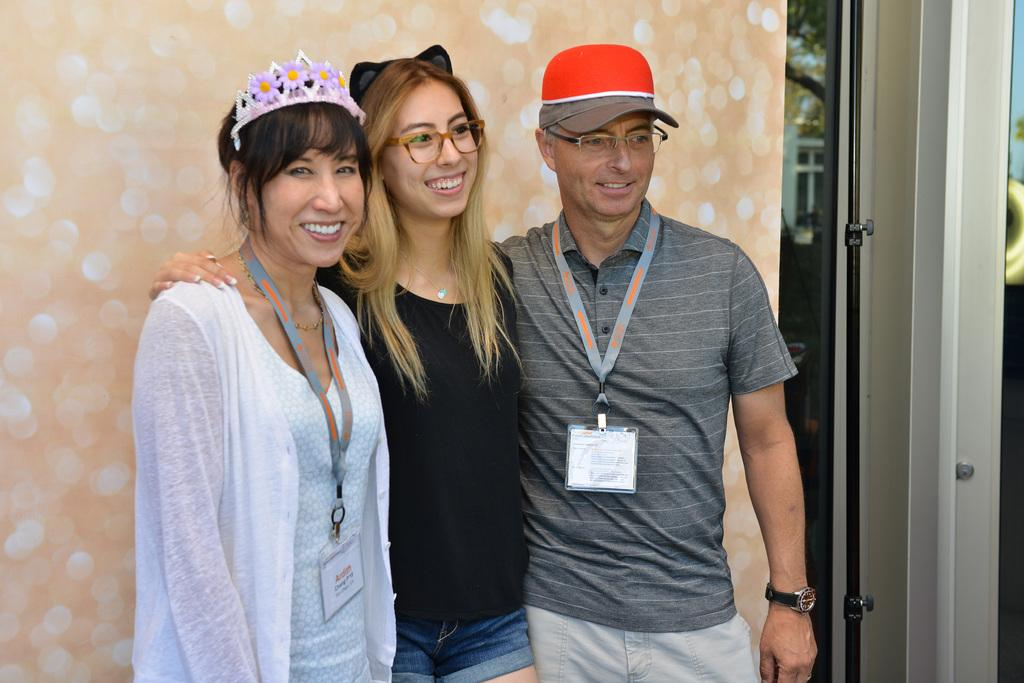Hat: (539, 38, 679, 133)
